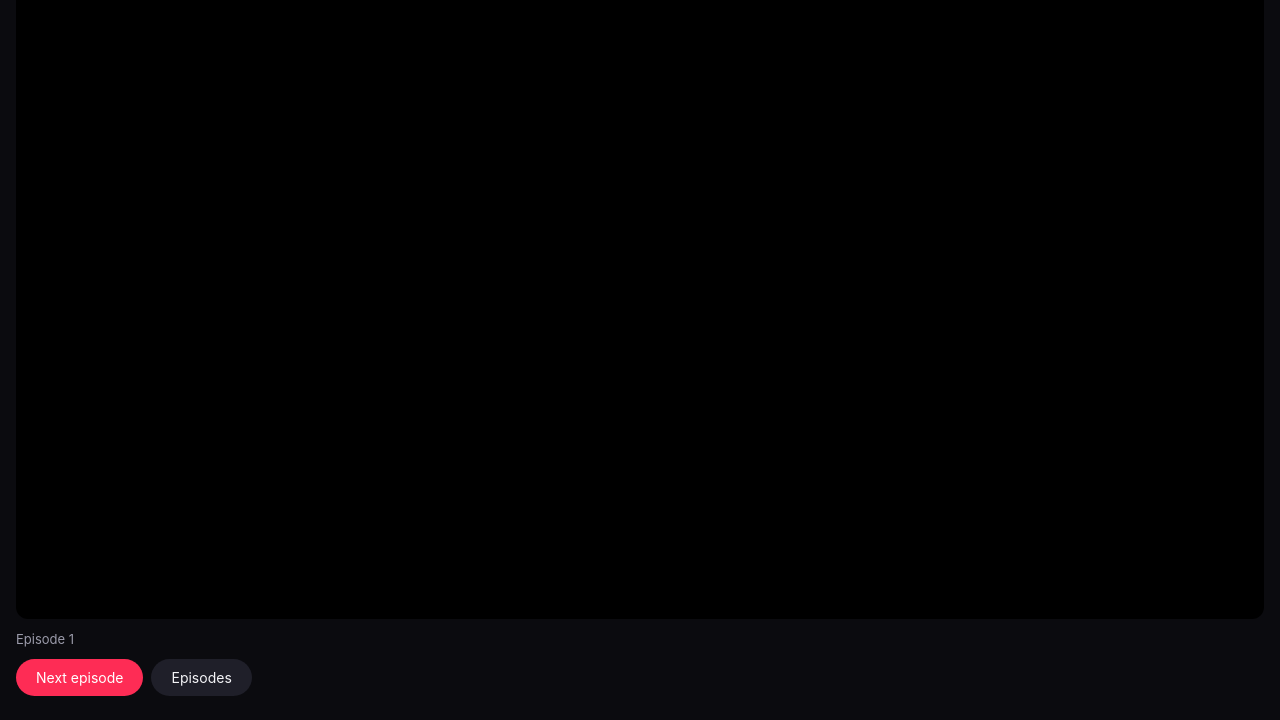
PNL-01 on the player › opens the picker from the player and dismisses it
(page scrolled)
Click the button with test id "episode-picker-open" at {"x": 202, "y": 678}, box [152,659,252,696]
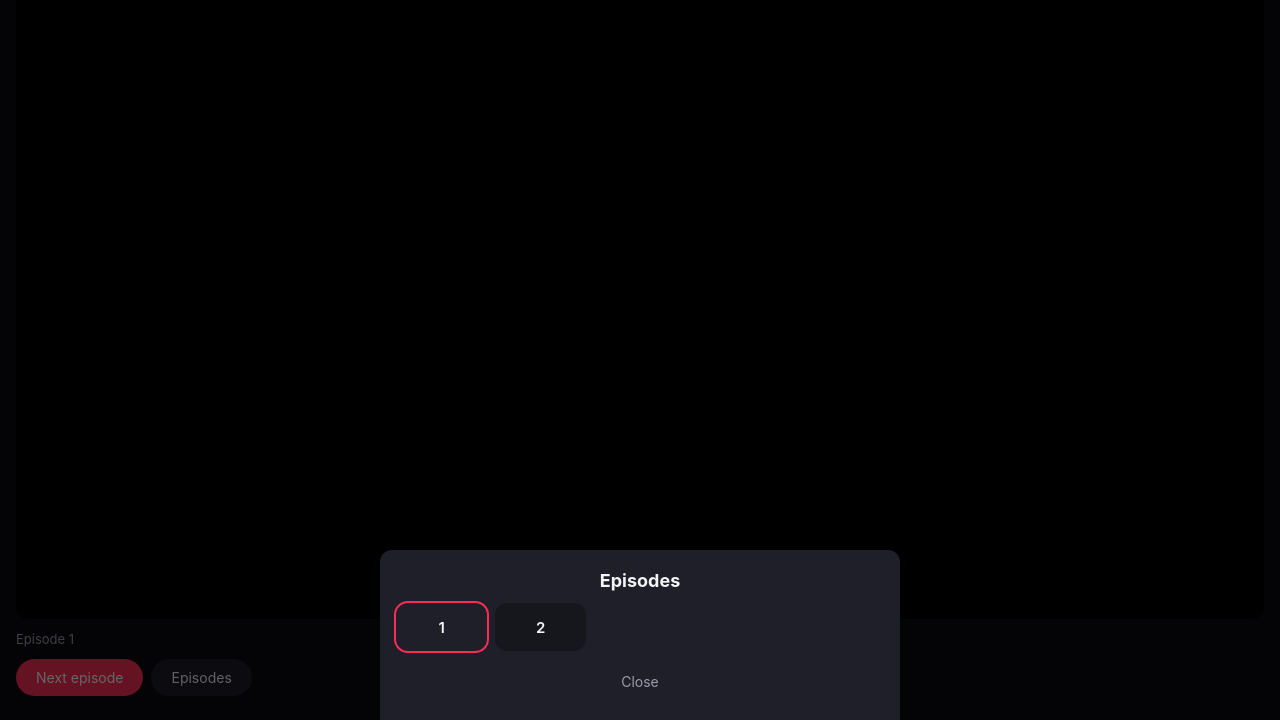
Now the element with test id "episode-picker" is shown
Now the list with test id "episode-picker-grid" is shown, box [396,603,586,651]
Click the button with test id "episode-picker-close" at {"x": 640, "y": 682}, box [396,663,884,700]
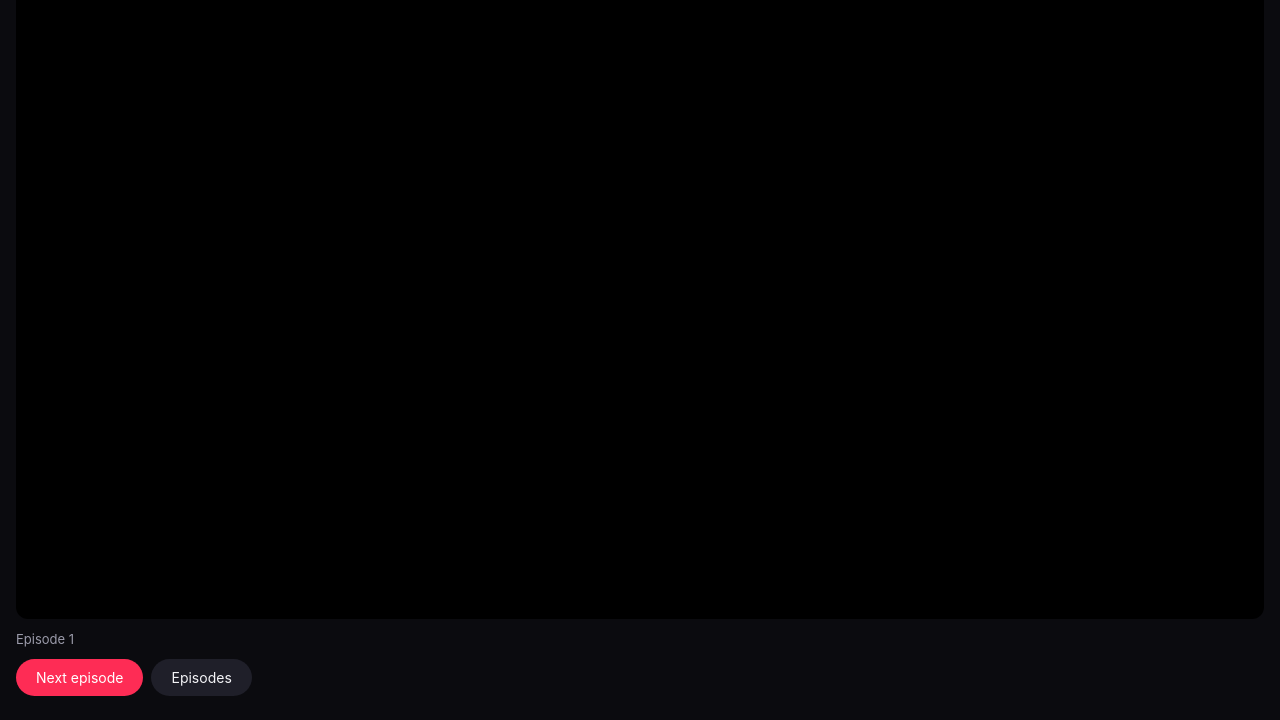
Now the element with test id "episode-picker" is gone
